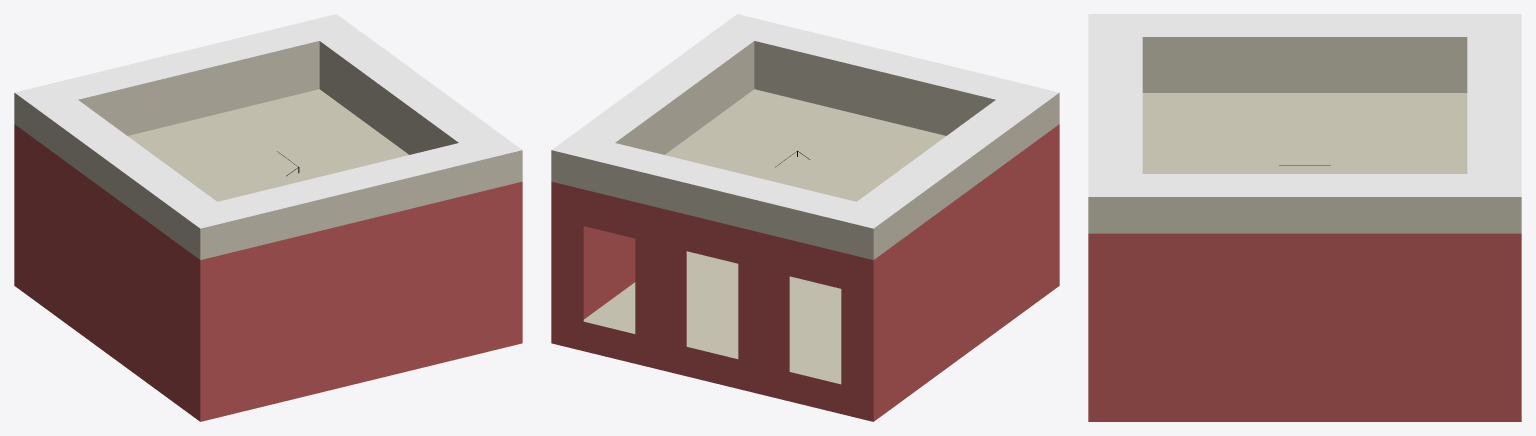
The model's file is Building 66.FBX.
3 views of the same model, side by side, from view 1: azimuth 30°, elevation 25°; view 2: azimuth 150°, elevation 25°; view 3: azimuth 270°, elevation 25° (orthographic). The views are drawn at different scales.
Parts seen in each view (by area): view 1: Group72; view 2: Group72; view 3: Group72.
Boxes of the visible parts, box(x1,y1,x2,y2) form: Group72: box(14, 14, 522, 421); Group72: box(551, 14, 1059, 421); Group72: box(1088, 14, 1521, 421).
Size of the model in its own units: 29.53 by 16.93 by 29.53.
